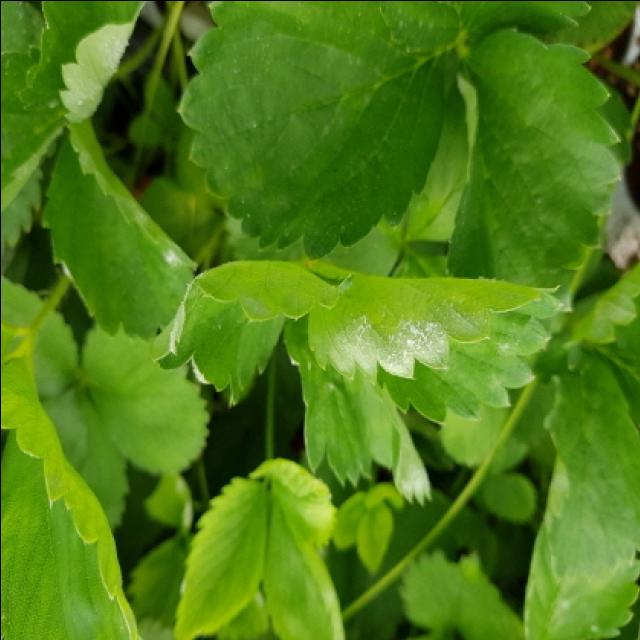Powdery Mildew Leaf: (307, 273, 566, 426), (37, 117, 197, 344), (521, 351, 638, 640), (153, 258, 354, 408), (282, 313, 434, 507), (12, 2, 145, 121)
